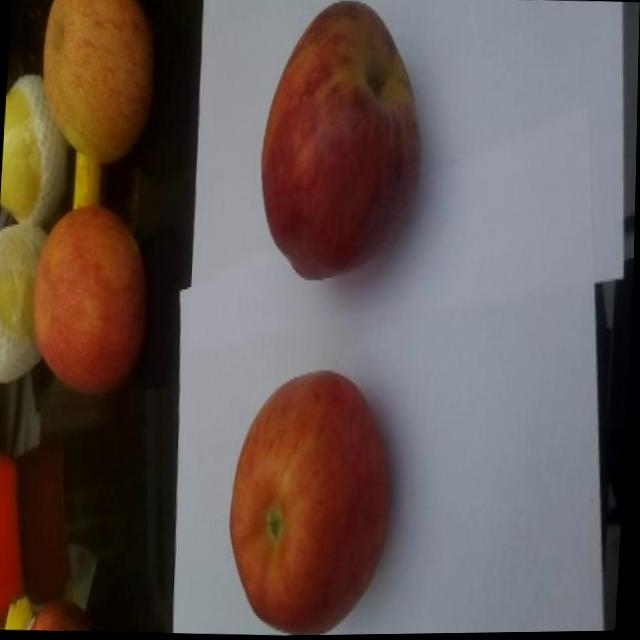Apple: (254, 0, 430, 284), (225, 365, 401, 637), (36, 0, 159, 167)
